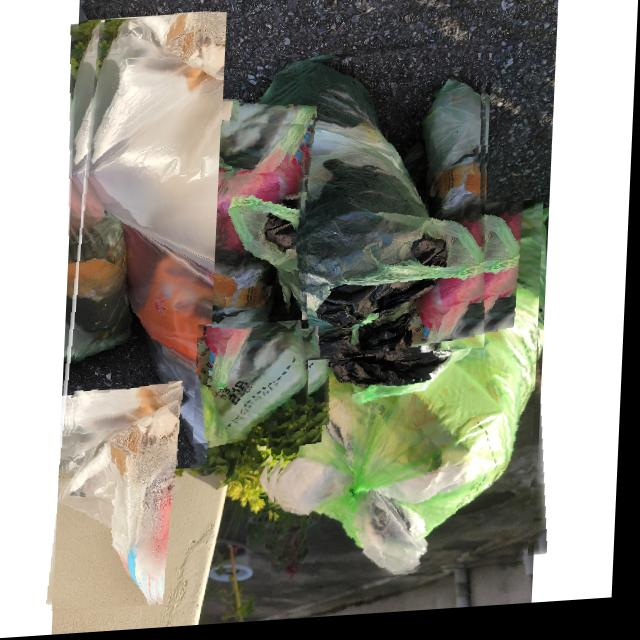general_trashbag: (280, 208, 545, 578), (237, 65, 489, 366), (142, 124, 311, 386), (201, 324, 313, 444), (142, 332, 143, 334)
other_trashbag: (85, 20, 224, 461), (66, 400, 183, 607)
